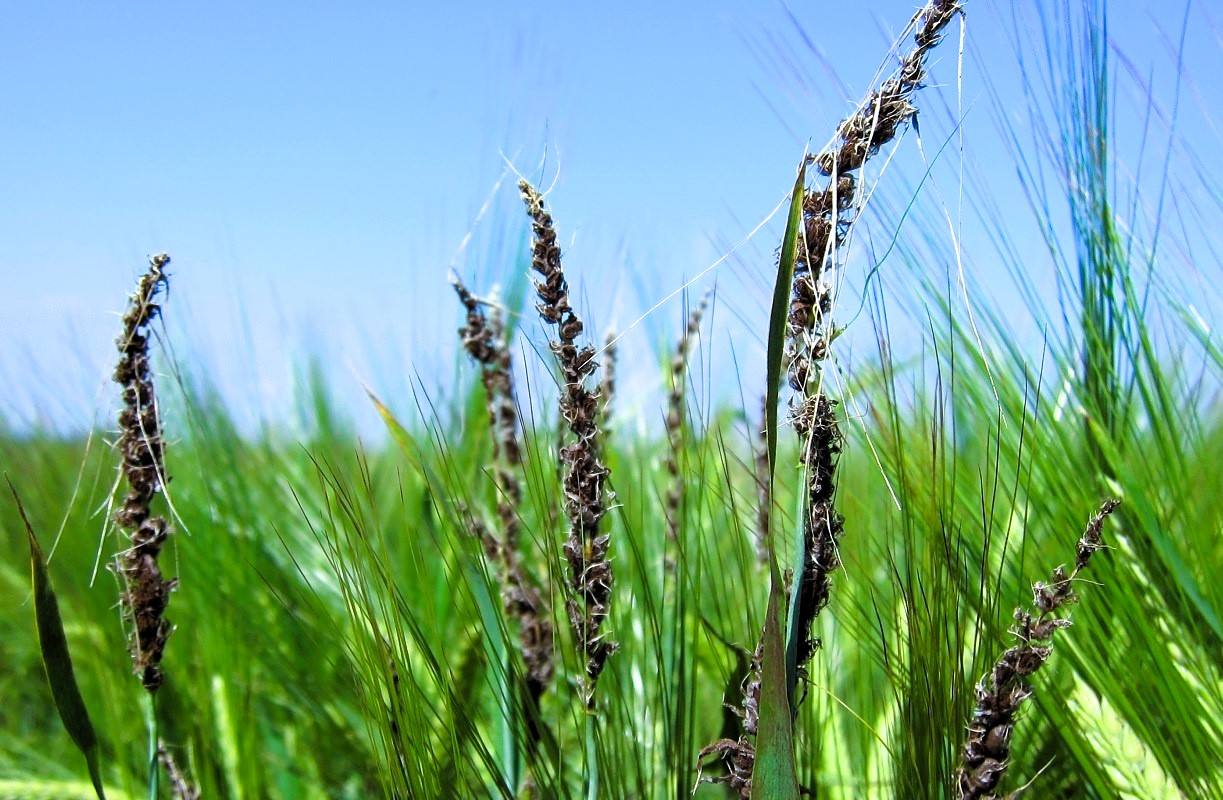Wheat Loose Smut: (966, 504, 1109, 790), (520, 185, 616, 478)
